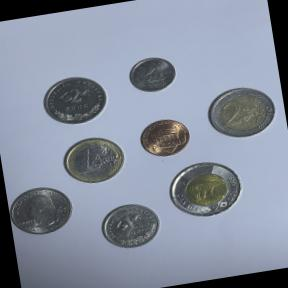coin: (162, 154, 249, 224), (202, 80, 281, 145), (38, 70, 112, 132), (6, 180, 78, 240), (58, 131, 129, 188), (135, 114, 196, 162), (124, 52, 182, 98)
